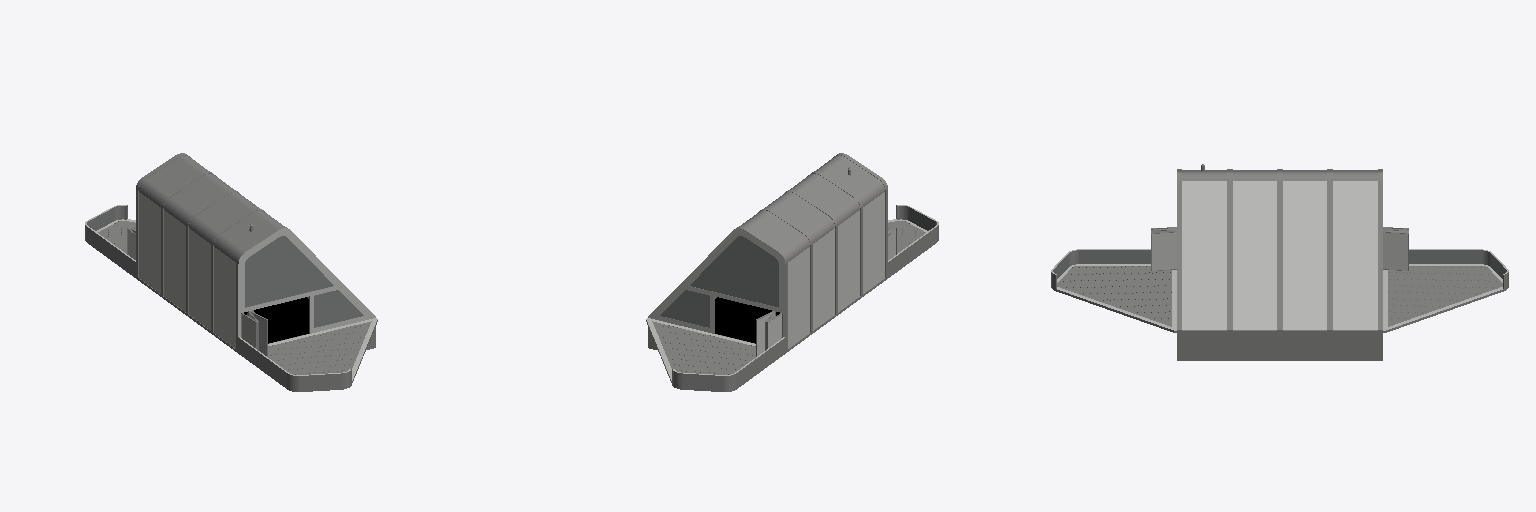
Rendered from studio.obj.
The picture shows the model from 3 angles: view 1: azimuth 30°, elevation 25°; view 2: azimuth 150°, elevation 25°; view 3: azimuth 270°, elevation 25°; orthographic projection.
Visible parts, largest first — view 1: studio; view 2: studio; view 3: studio.
Part boxes in pixels (bbox=[...]): studio: bbox=[85, 153, 377, 391]; studio: bbox=[646, 153, 938, 391]; studio: bbox=[1051, 164, 1508, 360].
Bounding box in the file's own units: 9.45 × 9.34 × 27.16.